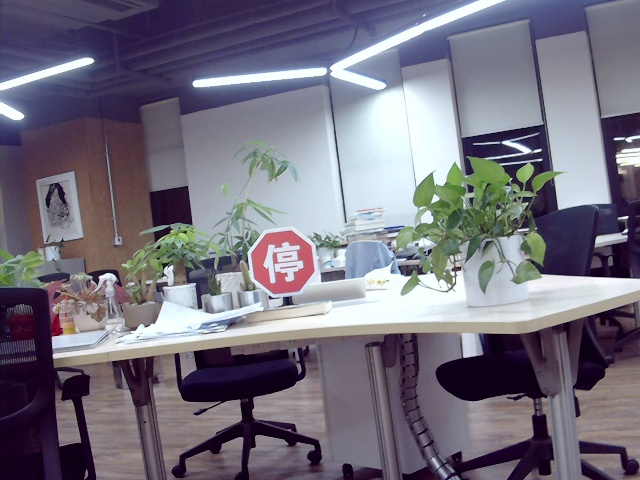stop: (261, 242, 305, 283)
